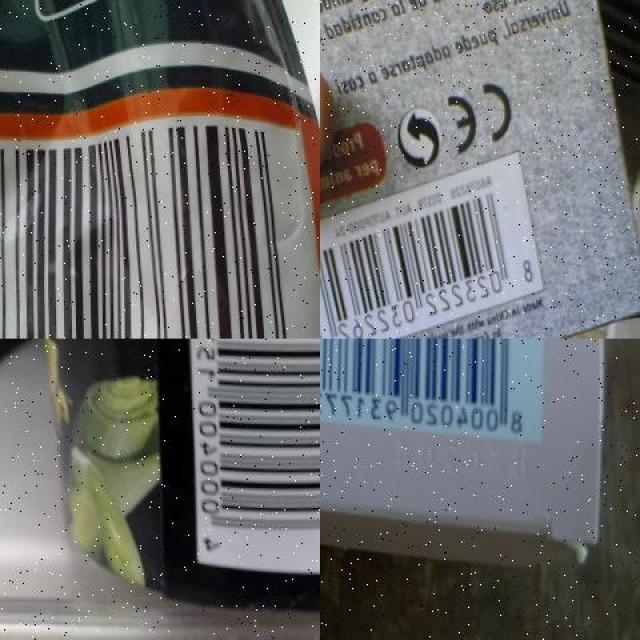Barcode: (0, 94, 320, 338), (320, 137, 549, 339), (181, 339, 320, 572), (320, 339, 549, 436)
